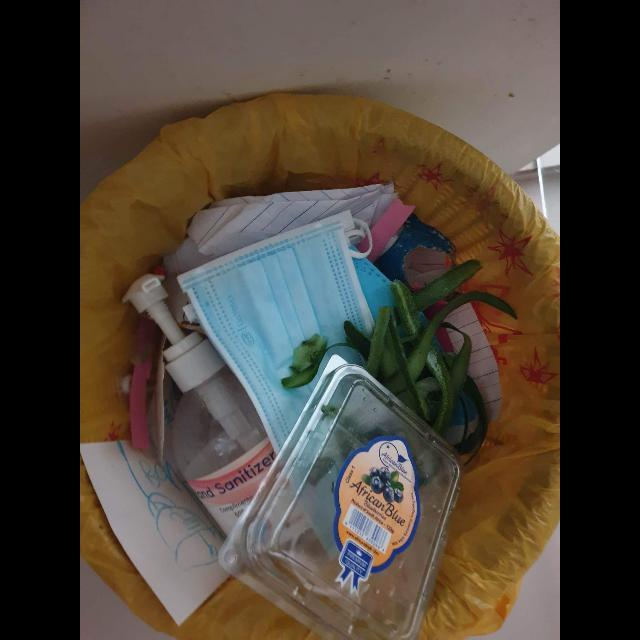biowaste: (366, 260, 516, 456), (281, 321, 371, 390)
paper: (80, 442, 228, 625), (187, 183, 398, 258)
plastic: (218, 355, 460, 640), (122, 274, 276, 534)
